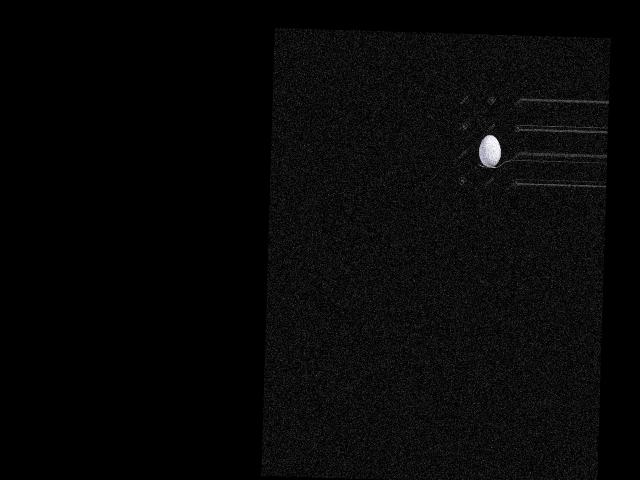egg: (478, 135, 501, 167)
